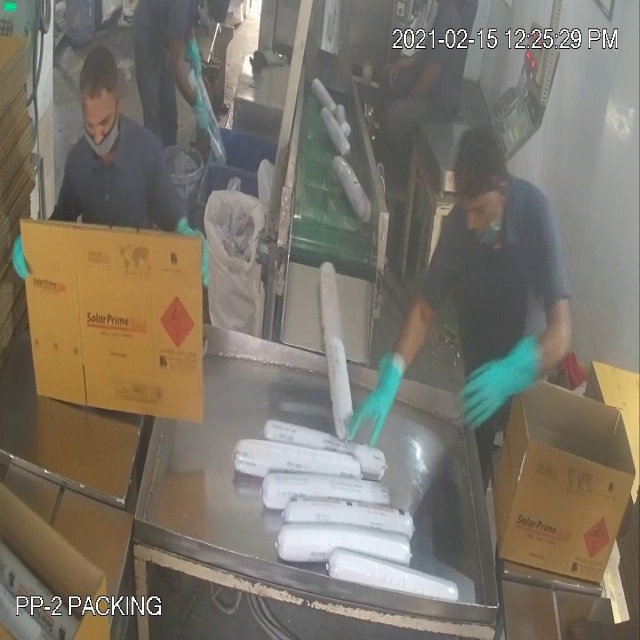Guantes: (448, 330, 546, 446), (346, 342, 414, 459)
Sin_guantes: (379, 52, 424, 88)
